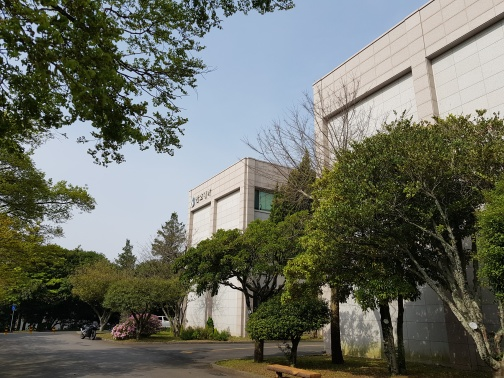College of Nursing: (176, 144, 280, 317)
